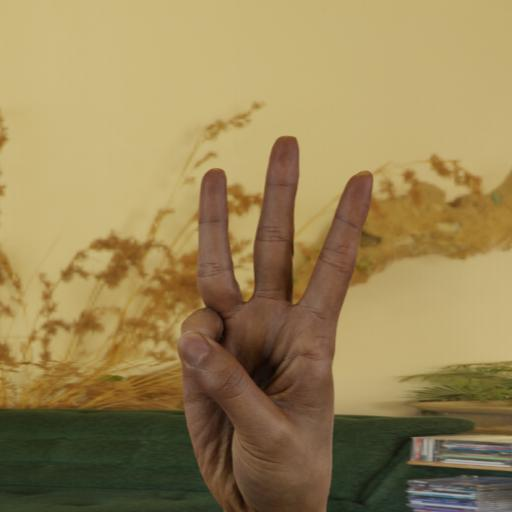W: (174, 131, 378, 512)
